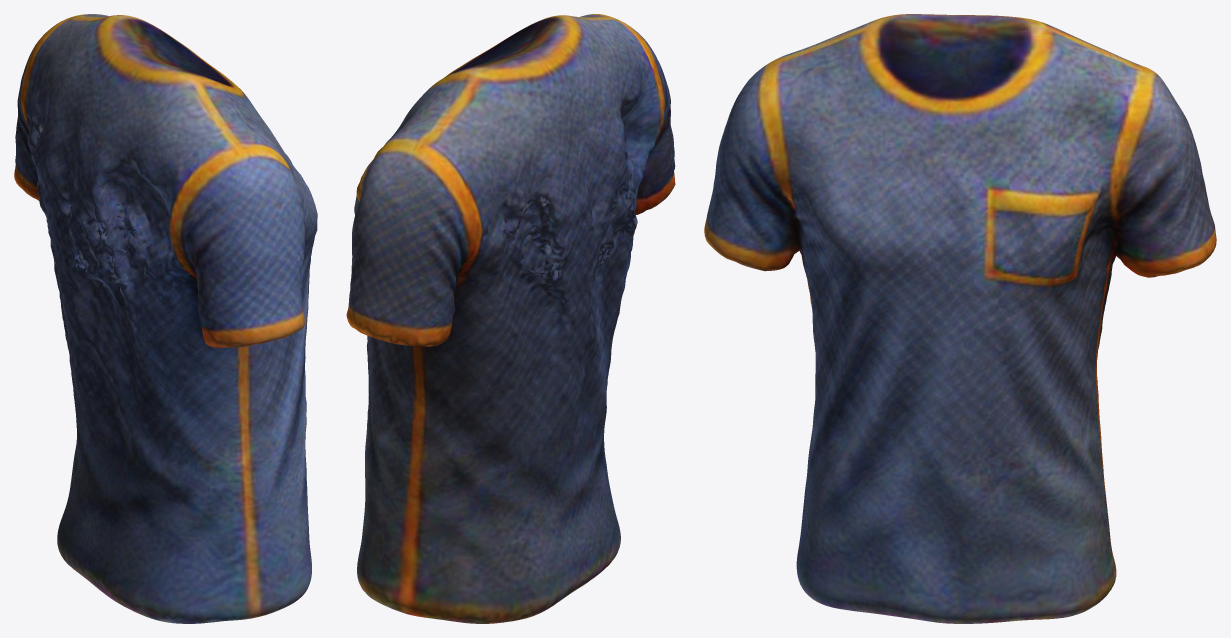
File: preview_model.glb
3 views of the same model, side by side, from view 1: azimuth 30°, elevation 25°; view 2: azimuth 150°, elevation 25°; view 3: azimuth 270°, elevation 25° (orthographic). The views are drawn at different scales.
Visible parts, largest first — view 1: Mesh1; view 2: Mesh1; view 3: Mesh1.
Part boxes in pixels (x1,y1,x2,y2): Mesh1: (14, 14, 317, 623); Mesh1: (346, 14, 675, 623); Mesh1: (704, 14, 1216, 623).
Bounding box in the file's own units: 0.4963 × 1.2 × 0.9975.
Materials: 1 (1 with a texture image).
